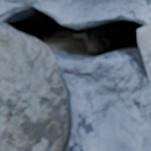brick: (0, 23, 71, 150), (138, 24, 150, 81)
crack: (2, 0, 148, 74)
